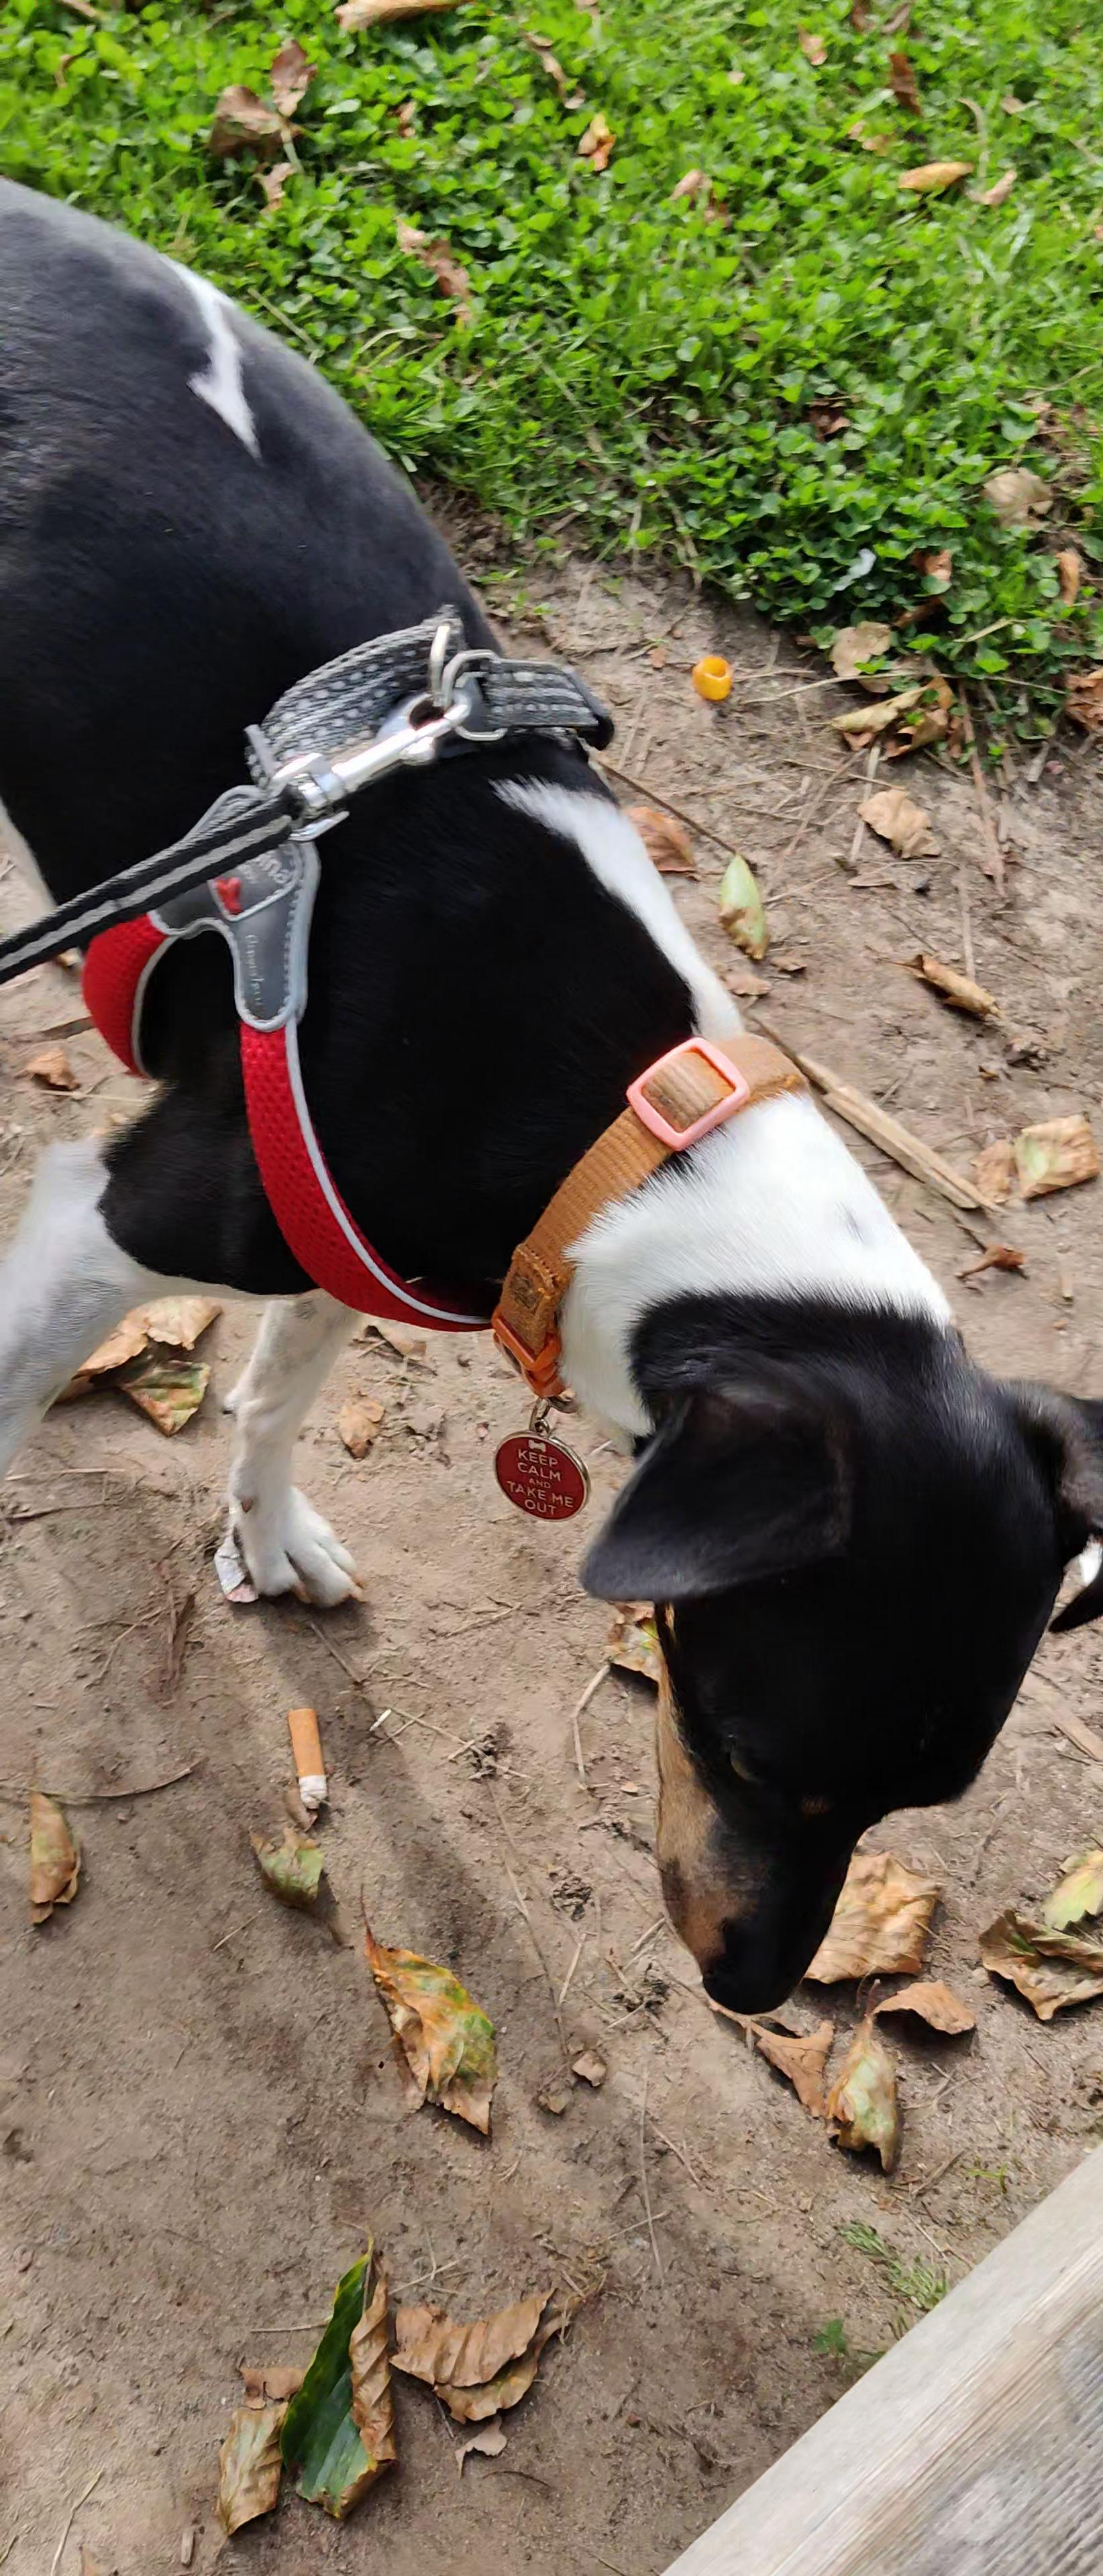Dog: (0, 172, 1103, 2017)
